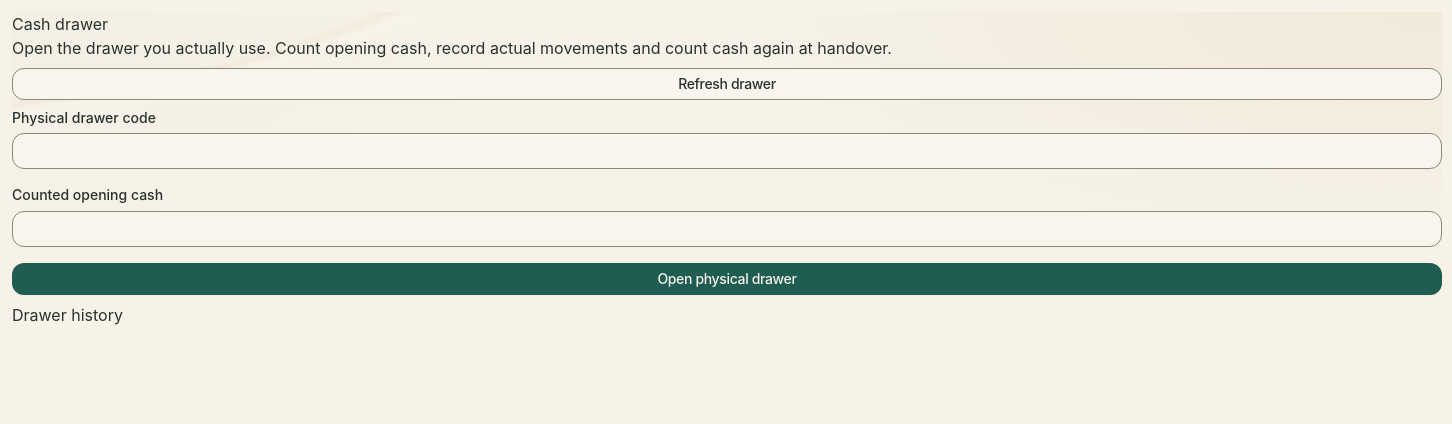
Test case: does not issue a financial command when durable reference storage fails
Type "COUNTER-1" into the field labelled "Physical drawer code".
click(727, 151); type("COUNTER-1")  # box x1=12 y1=133 x2=1442 y2=169
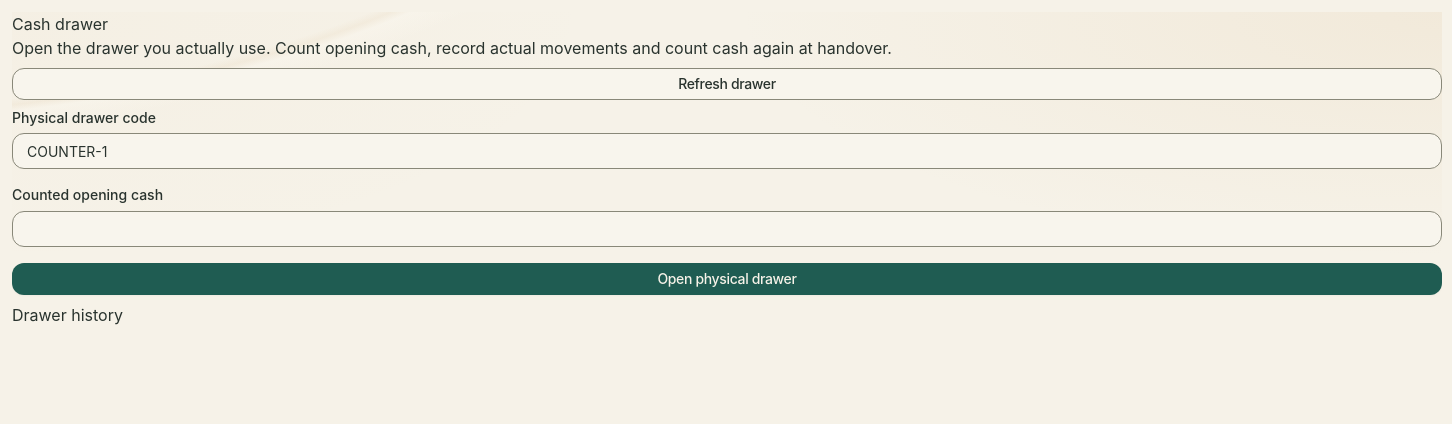
Type "100" into the number field labelled "Counted opening cash".
click(727, 228); type("100")  # box x1=12 y1=210 x2=1442 y2=246
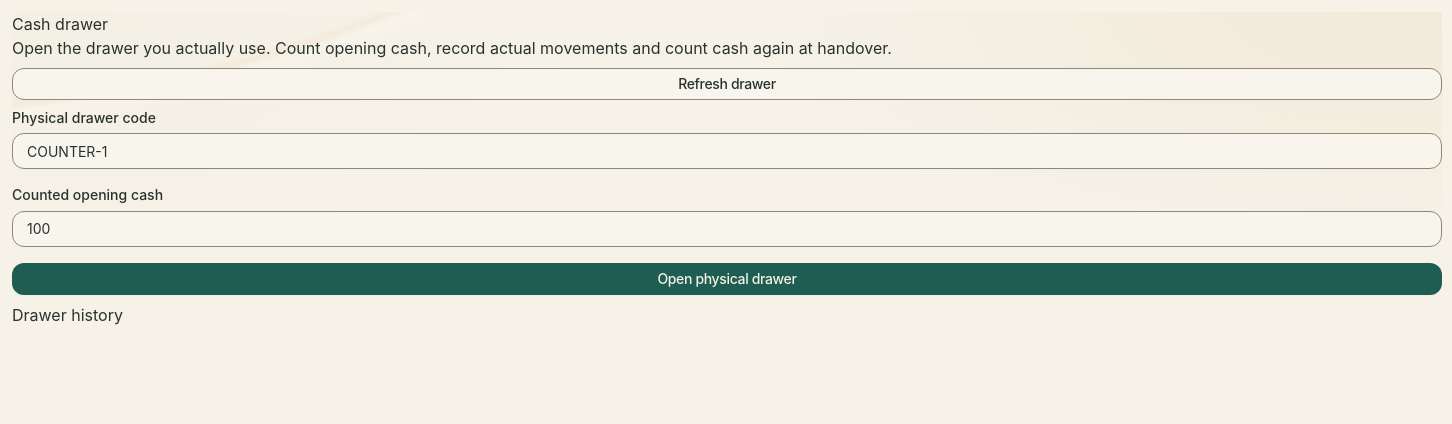
Click the button "Open physical drawer".
click(727, 278)  # box x1=12 y1=262 x2=1442 y2=294
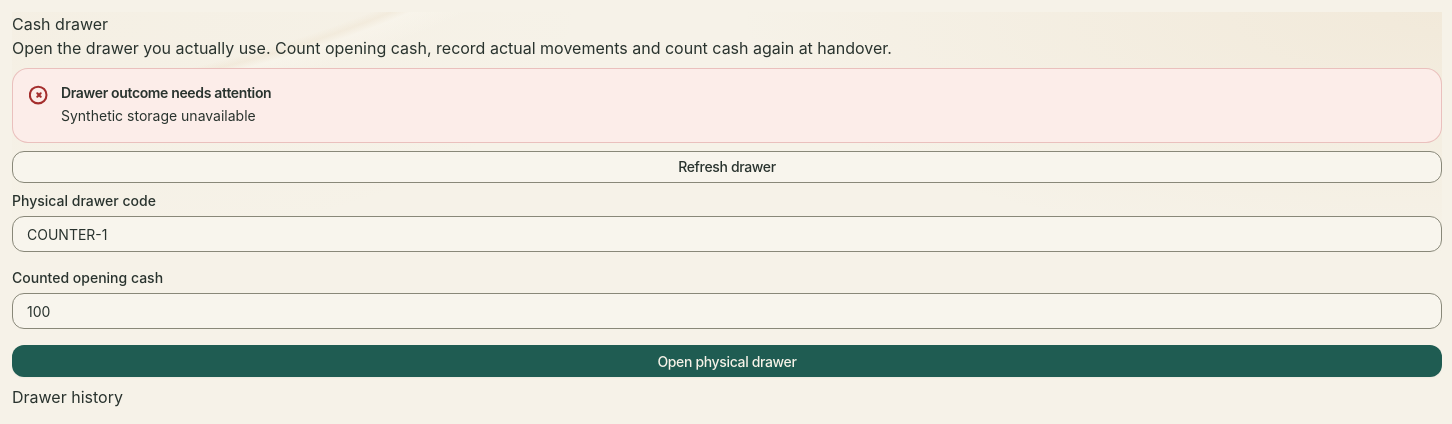
Expected: the text "Synthetic storage unavailable" is shown, x1=61 y1=107 x2=256 y2=124
